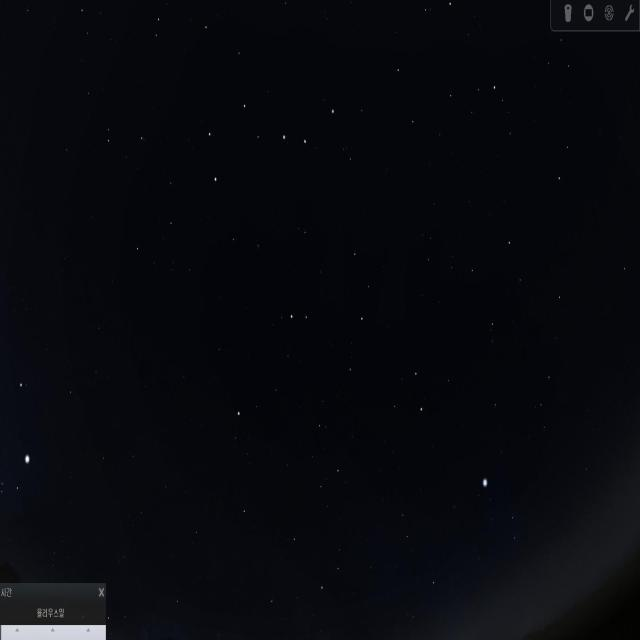lyra: (477, 474, 521, 555)
ursa_major: (200, 78, 334, 194)
